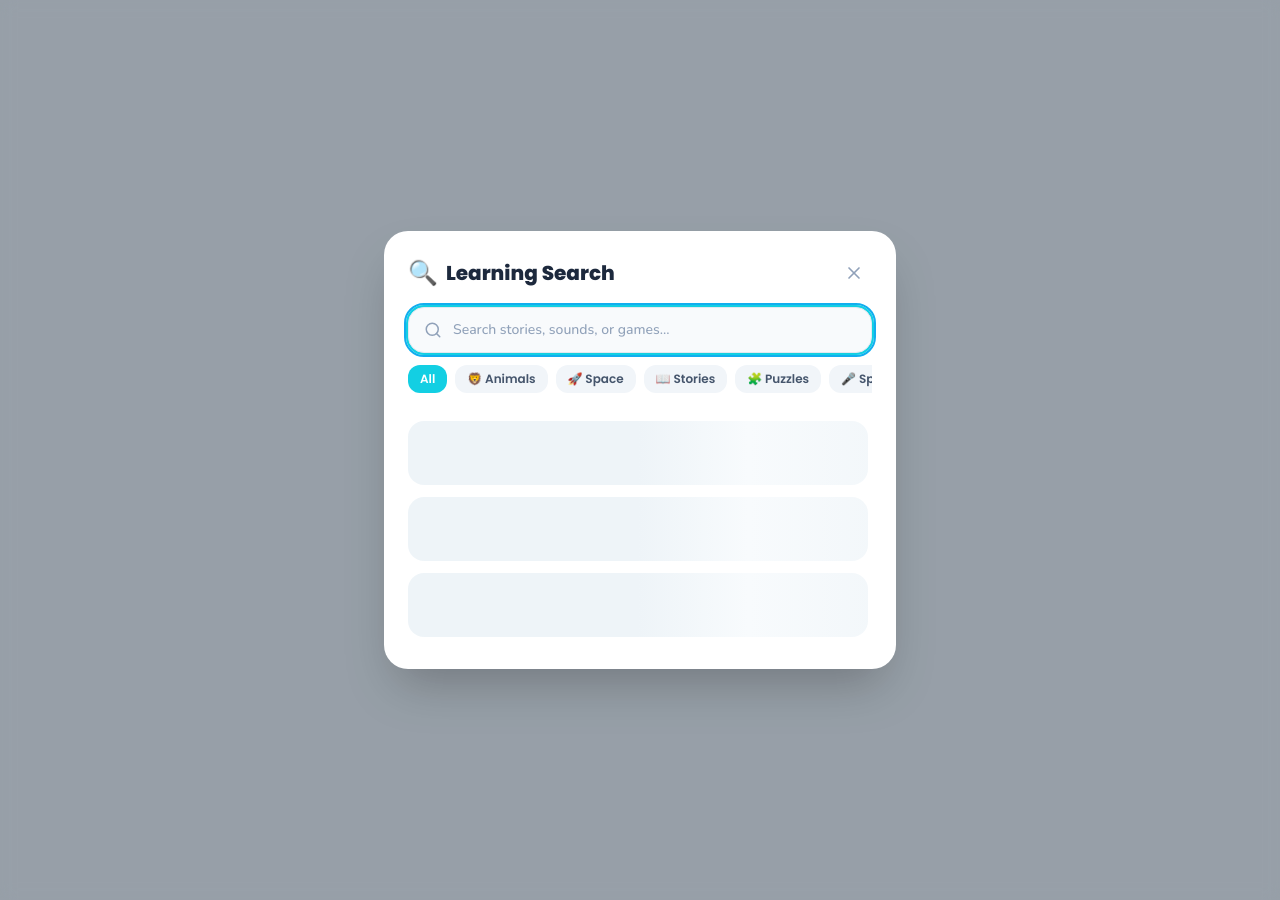
Test: Step 23: Final End-to-End System Validation (Frontend) › 15. SearchModal query renders matching activity results
The width and height of the screenshot is (1280, 900).
Type "Detective" into the field with placeholder "Search stories, sounds, or games..." at (640, 330), box [408, 307, 872, 353]
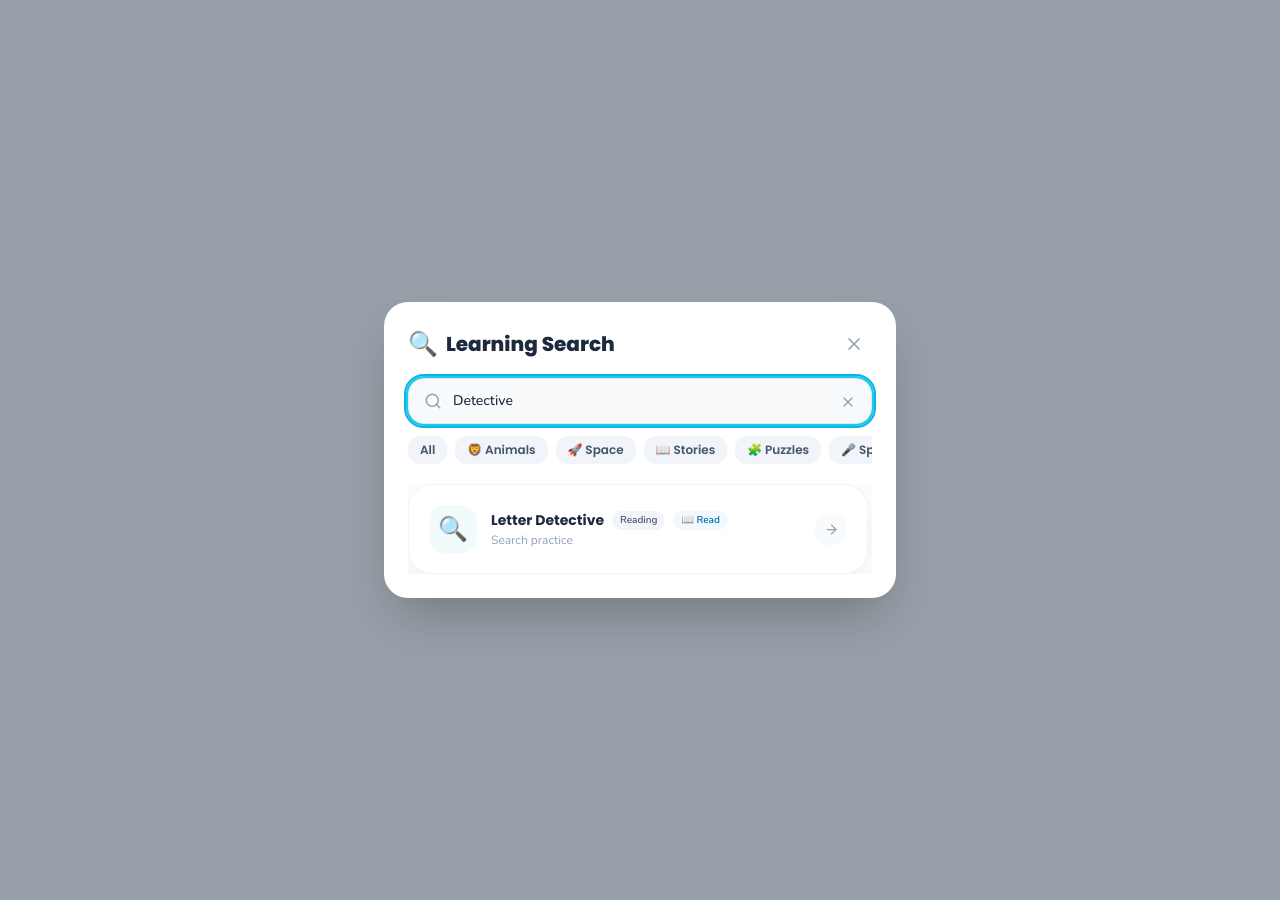
Result: the text "Letter Detective" is shown at [491, 510, 604, 530]
